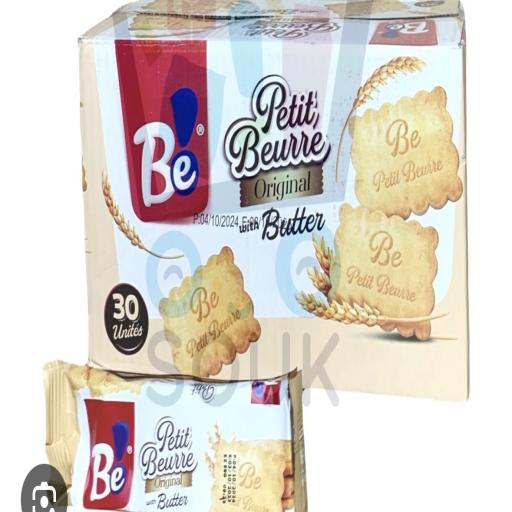petit_beurre: (29, 331, 316, 512)
